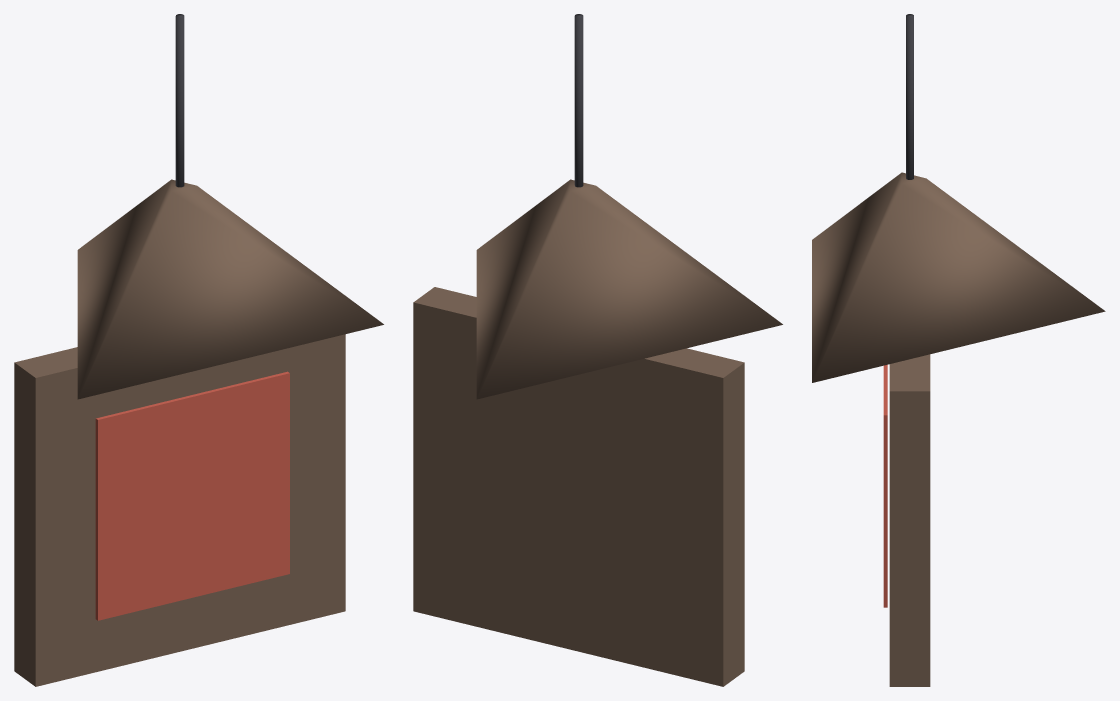
Rendered from prop_ema.glb.
The picture shows the model from 3 angles, left to right: view 1: azimuth 30°, elevation 25°; view 2: azimuth 150°, elevation 25°; view 3: azimuth 270°, elevation 25°; orthographic projection. The views are drawn at different scales.
Parts seen in each view (by area): view 1: ema; view 2: ema; view 3: ema.
Boxes of the visible parts, left/top/right/bottom form: ema: left=14, top=14, right=383, bottom=686; ema: left=413, top=14, right=782, bottom=686; ema: left=812, top=14, right=1105, bottom=686.
Size of the model in its own units: 0.42 by 0.81 by 0.36.
